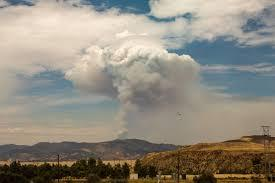smoke: (70, 48, 201, 102), (113, 100, 132, 139)
